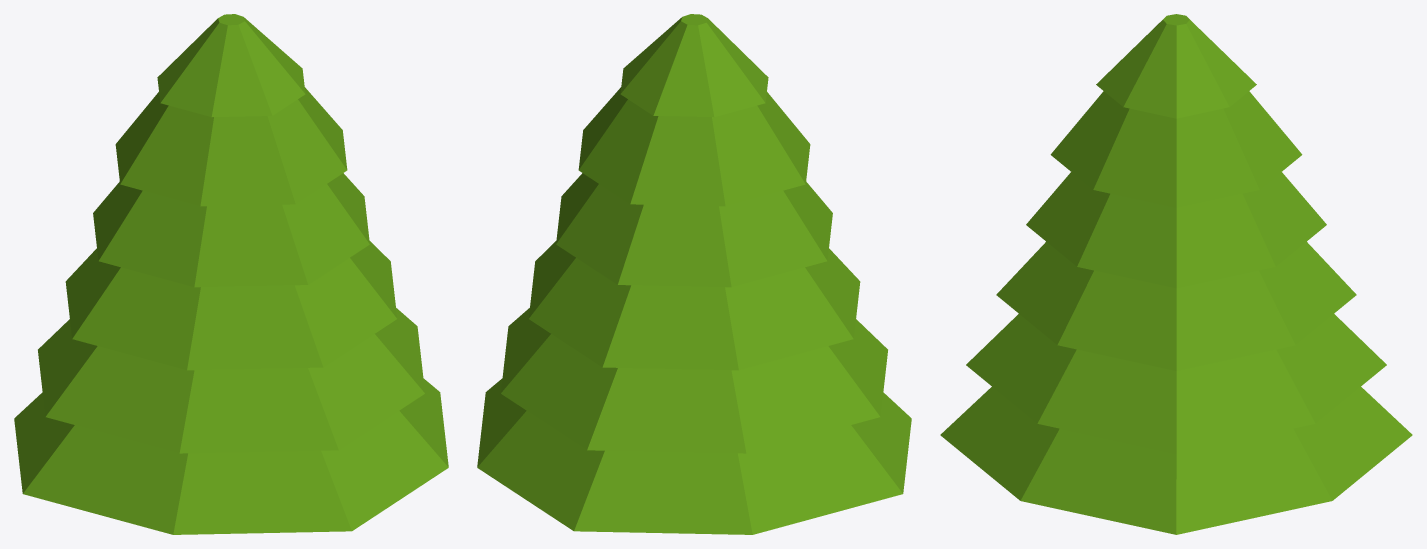
Rendered from Tree1, Tall_Fat.fbx.
3 views of the same model, side by side, from view 1: azimuth 30°, elevation 25°; view 2: azimuth 150°, elevation 25°; view 3: azimuth 270°, elevation 25° (orthographic).
Parts seen in each view (by area): view 1: Pine Tree; view 2: Pine Tree; view 3: Pine Tree.
Boxes of the visible parts, x1=… form: Pine Tree: x1=14, y1=14, x2=448, y2=534; Pine Tree: x1=477, y1=14, x2=911, y2=534; Pine Tree: x1=940, y1=14, x2=1412, y2=534.
Size of the model in its own units: 322 by 351 by 322.
